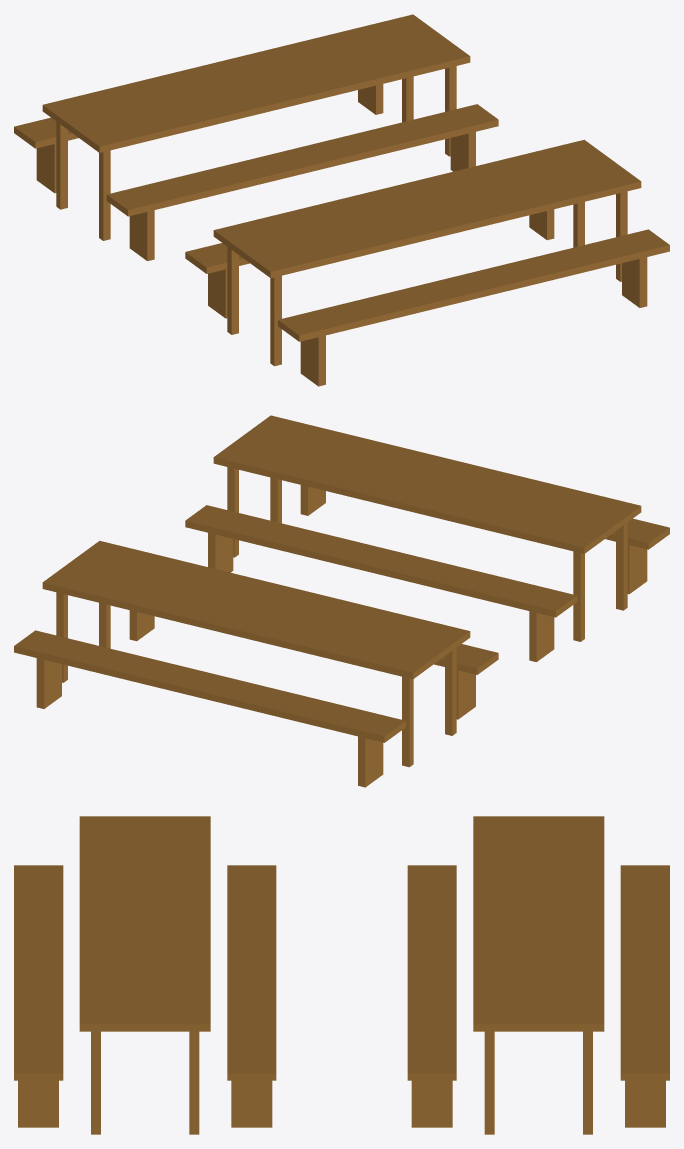
The model's file is SM_CocinaCampana_v3_Comedor_LOD0.fbx.
3 views of the same model, one above another, from view 1: azimuth 30°, elevation 25°; view 2: azimuth 150°, elevation 25°; view 3: azimuth 270°, elevation 25° (orthographic). The views are drawn at different scales.
Visible parts, largest first — view 1: SM_vida_fuerte_v23_LOD0; view 2: SM_vida_fuerte_v23_LOD0; view 3: SM_vida_fuerte_v23_LOD0.
Boxes of the visible parts, <box> form: SM_vida_fuerte_v23_LOD0: <box>14,14,669,386</box>; SM_vida_fuerte_v23_LOD0: <box>14,415,669,787</box>; SM_vida_fuerte_v23_LOD0: <box>14,816,669,1134</box>.
Size of the model in its own units: 3 by 0.775 by 4.
